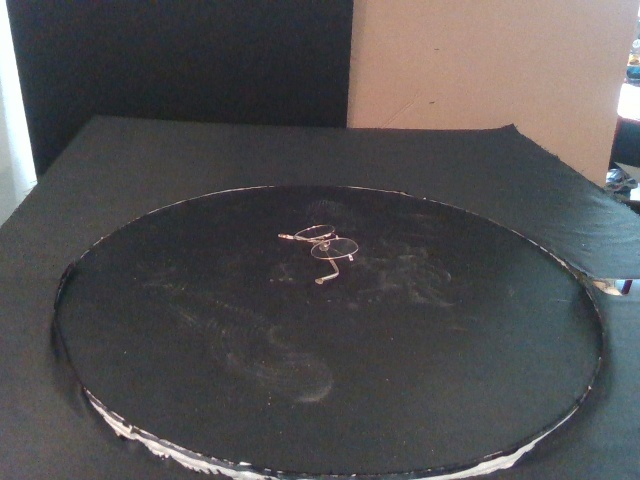glasses: (276, 224, 359, 285)
